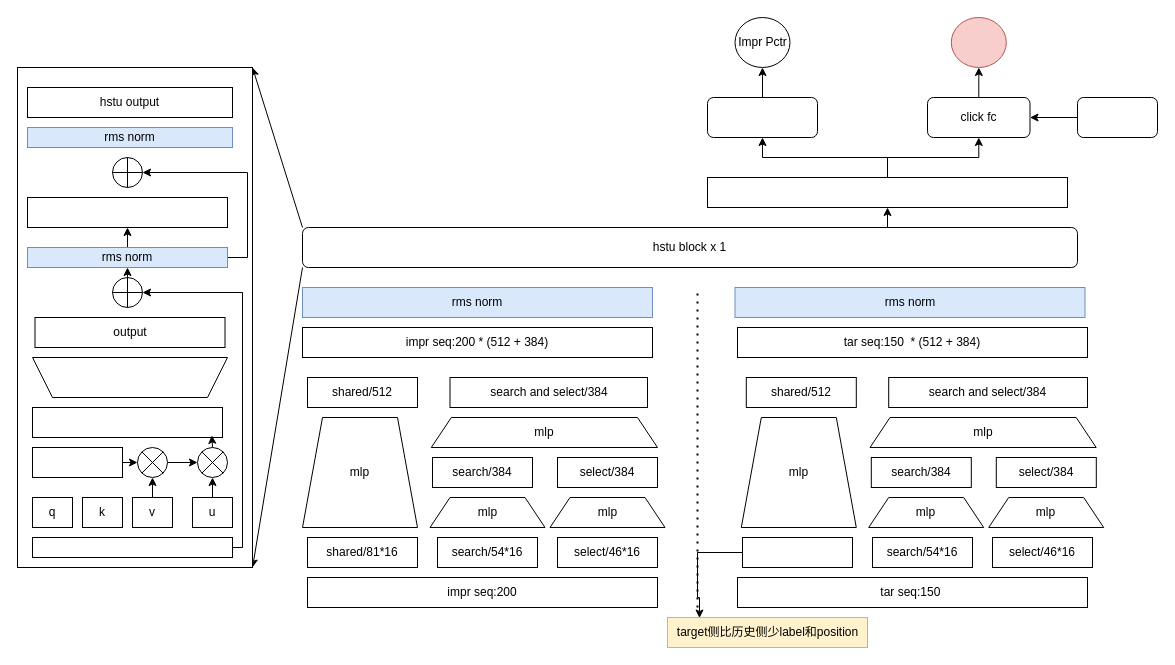
This 1175x665 diagram has some shape labels left out. The shapes that lost their labels are listed below. From the top down, each one's centre as x and y in pixels, then its label:
[978,42]: Click Pctr
[762,117]: exposure fc
[1117,117]: position emb
[127,212]: swiglu ffn
[887,192]: tar seq emb
[130,377]: output mlp h*hd->input_dim
[127,422]: attention output *u
[77,462]: silu(q*k^T)
[132,547]: input x
[797,552]: shared/79*16
